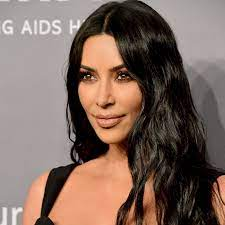n.sharp: (96, 74, 113, 109)
